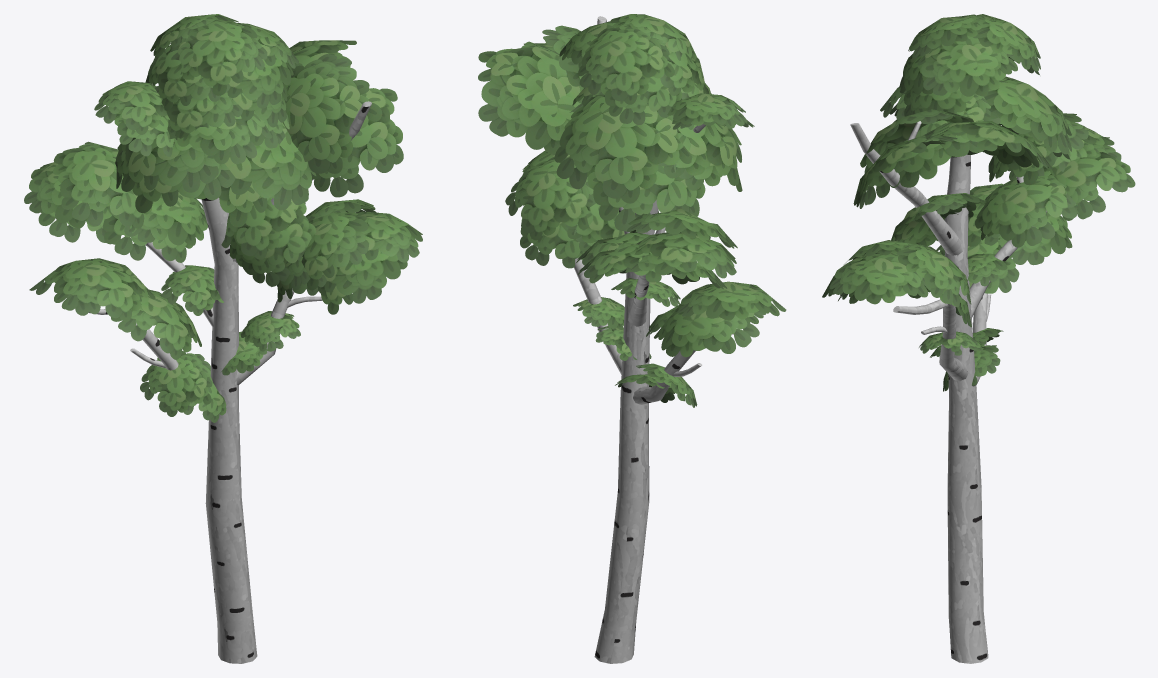
File: birch_1.glb
3 renders of one model, left to right at view 1: azimuth 30°, elevation 25°; view 2: azimuth 150°, elevation 25°; view 3: azimuth 270°, elevation 25°, orthographic. The views are drawn at different scales.
Visible parts, largest first — view 1: Birch_1; view 2: Birch_1; view 3: Birch_1.
Part boxes in pixels (<box>): Birch_1: <box>24,14,422,663</box>; Birch_1: <box>478,14,786,663</box>; Birch_1: <box>822,14,1135,663</box>.
Size of the model in its own units: 4.89 by 9.48 by 4.46.
Materials: 2 (2 with a texture image).
